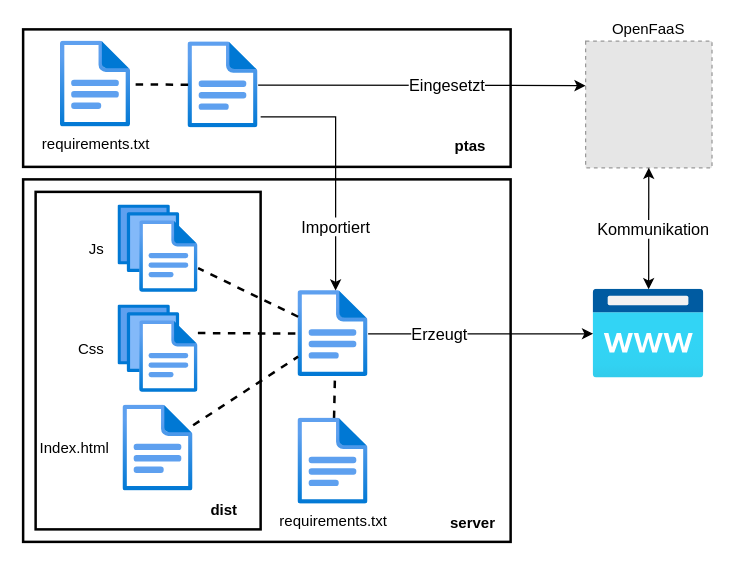
Image size: 734x565. Some labels were removed from this diagram. Grey dashed boxes stand in for pictures. Here are the shapes that lost their labels. From the top down, the box of each, then its label:
(188, 41, 258, 128): Handler.py
(298, 290, 368, 376): Server.py
(592, 289, 704, 378): GUI
